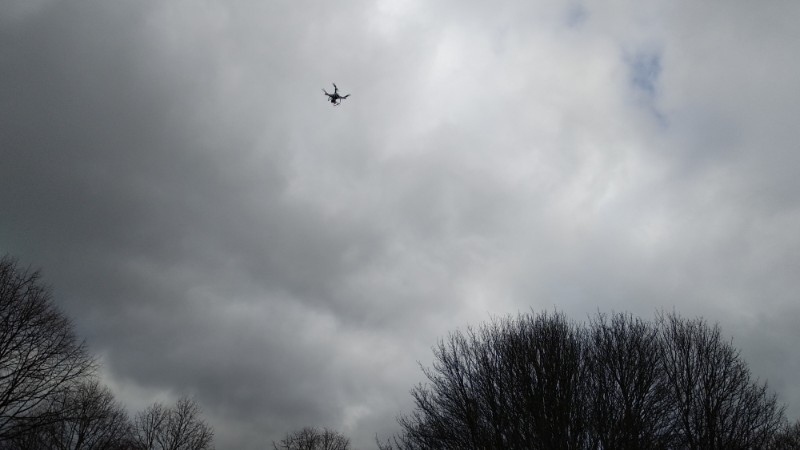drone: (322, 83, 353, 107)
